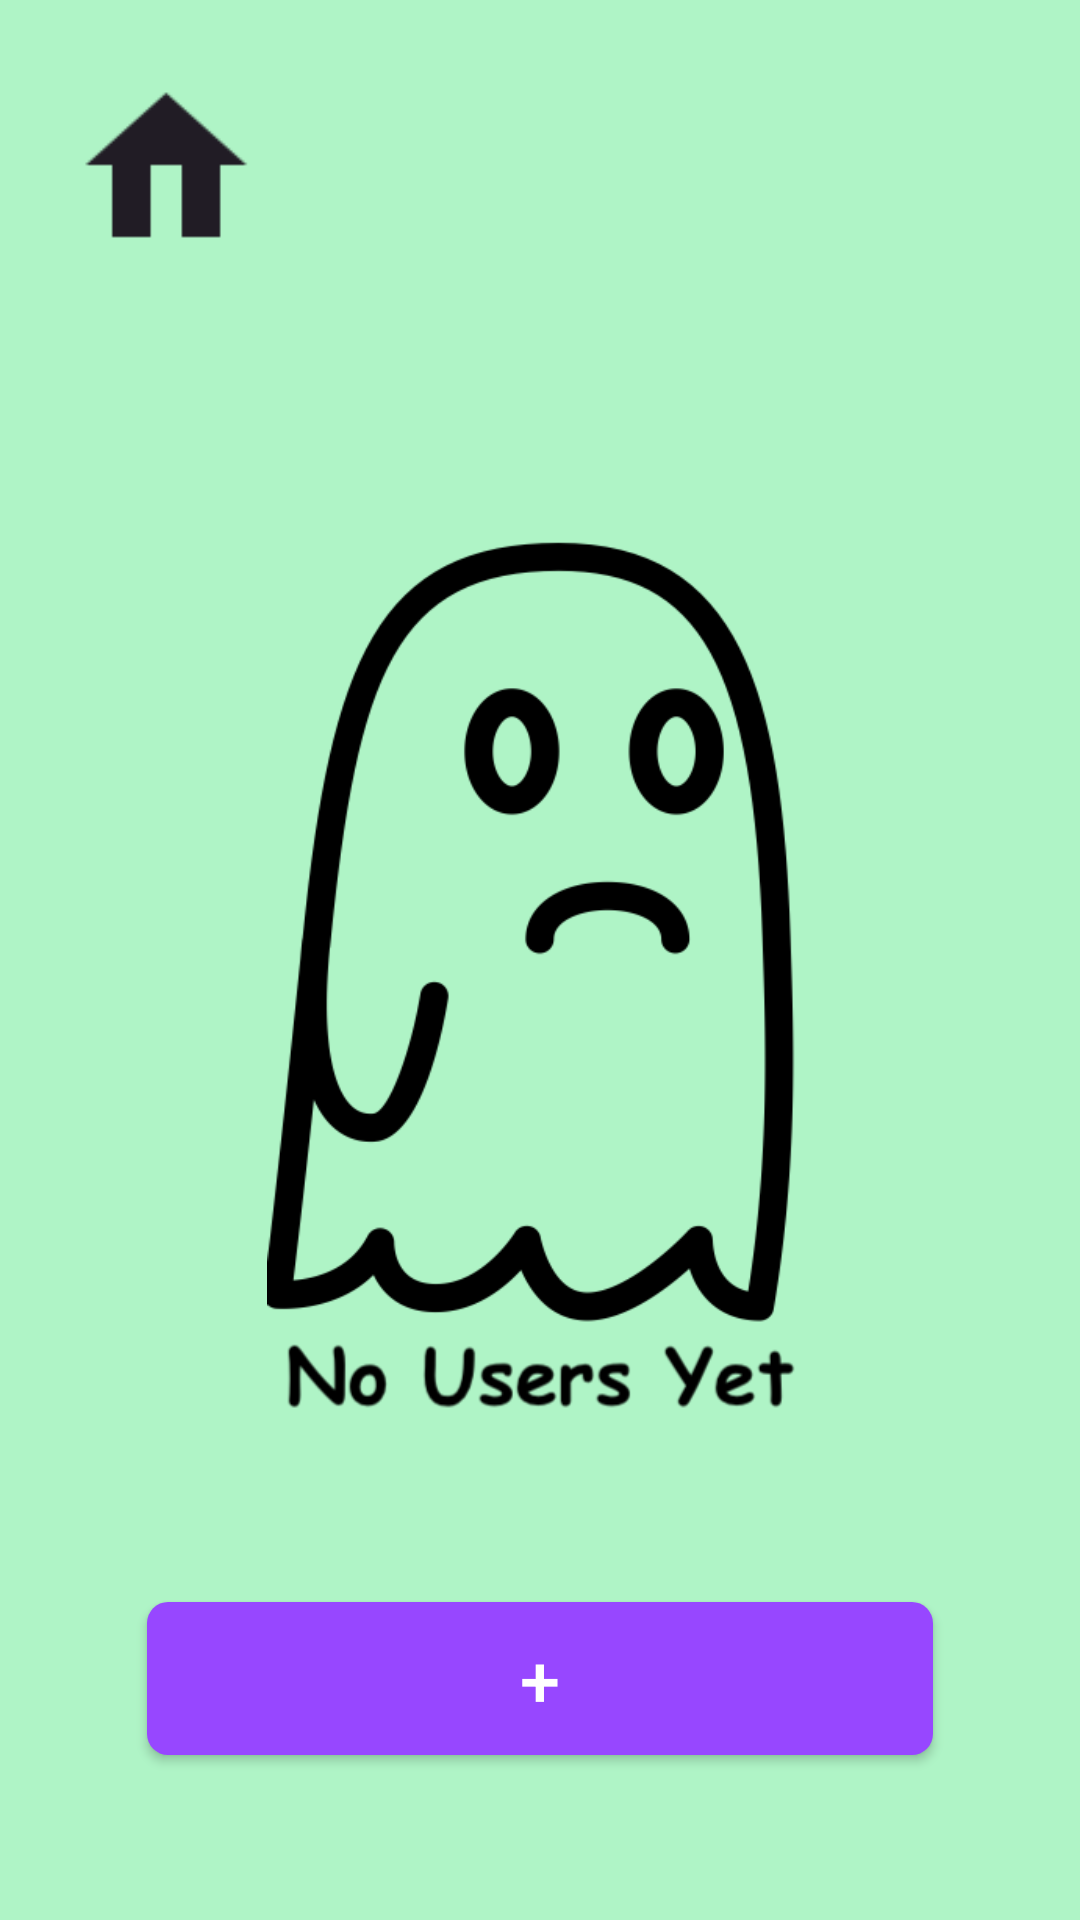

Where icons sit on this 1080px×1920px app screen, as (x1, y1, x2, y2):
home: (85, 92, 247, 238)
